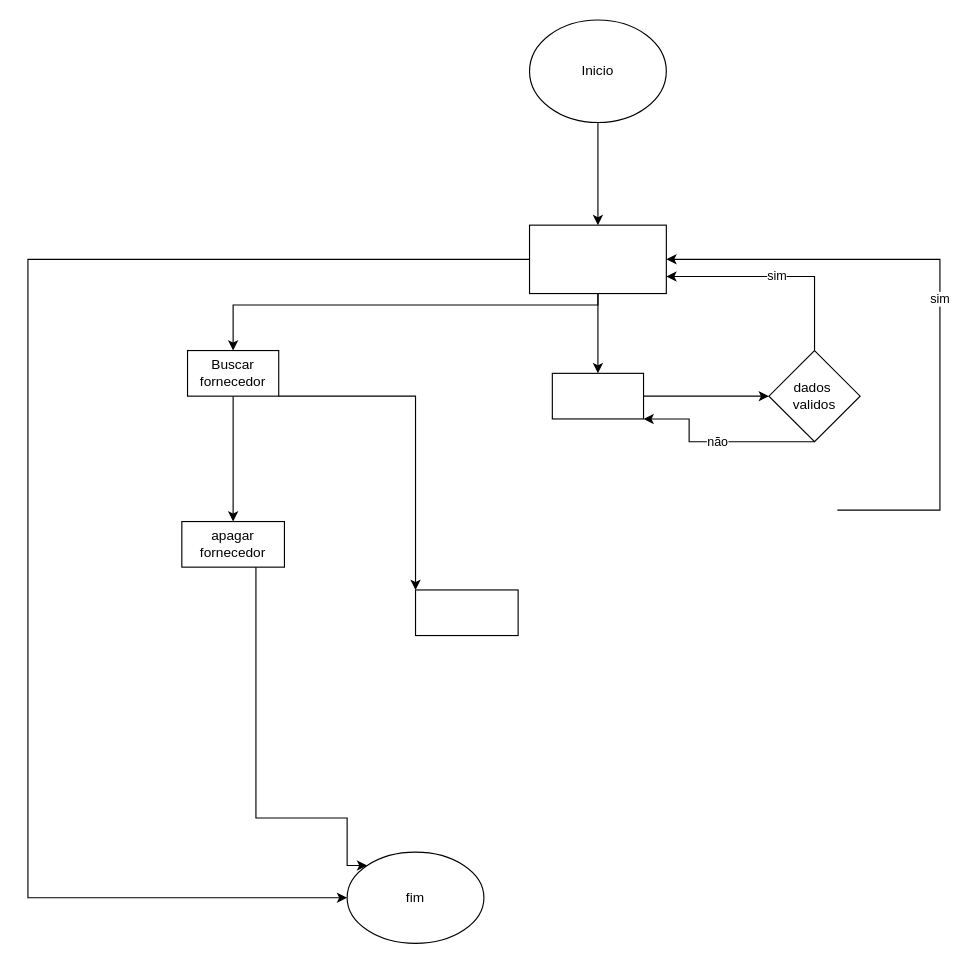
Image size: 969x963. Some labels were removed from this diagram. Here are the shapes that lost their labels. From the top down, the centre of each, then its label:
pixel 597 259: Listar fornecedor
pixel 597 395: Cadastrar fornecedor
pixel 466 612: Atualizar fornecedor
